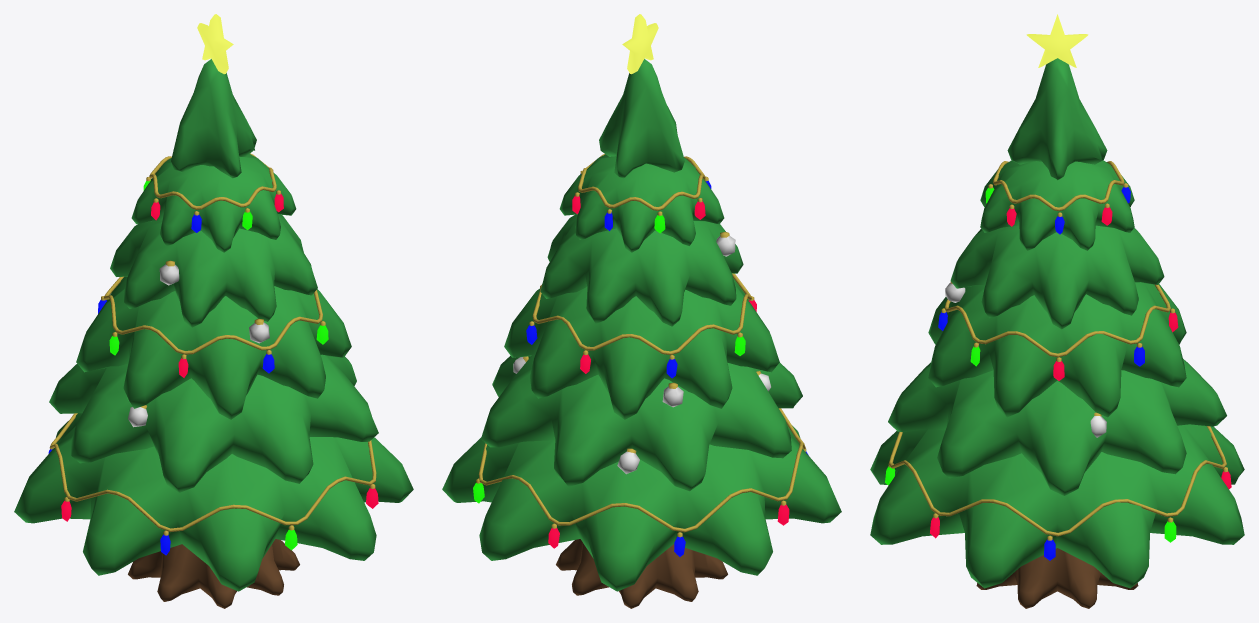
Rendered from tree.glb.
3 renders of one model, left to right at view 1: azimuth 30°, elevation 25°; view 2: azimuth 150°, elevation 25°; view 3: azimuth 270°, elevation 25°, orthographic.
Parts seen in each view (by area): view 1: 작은등; view 2: 작은등; view 3: 작은등.
Boxes of the visible parts, box(x1,y1,x2,y2) form: 작은등: box(14, 14, 413, 608); 작은등: box(442, 14, 841, 608); 작은등: box(870, 14, 1244, 608).
Size of the model in its own units: 1.21 by 2.01 by 1.21.
